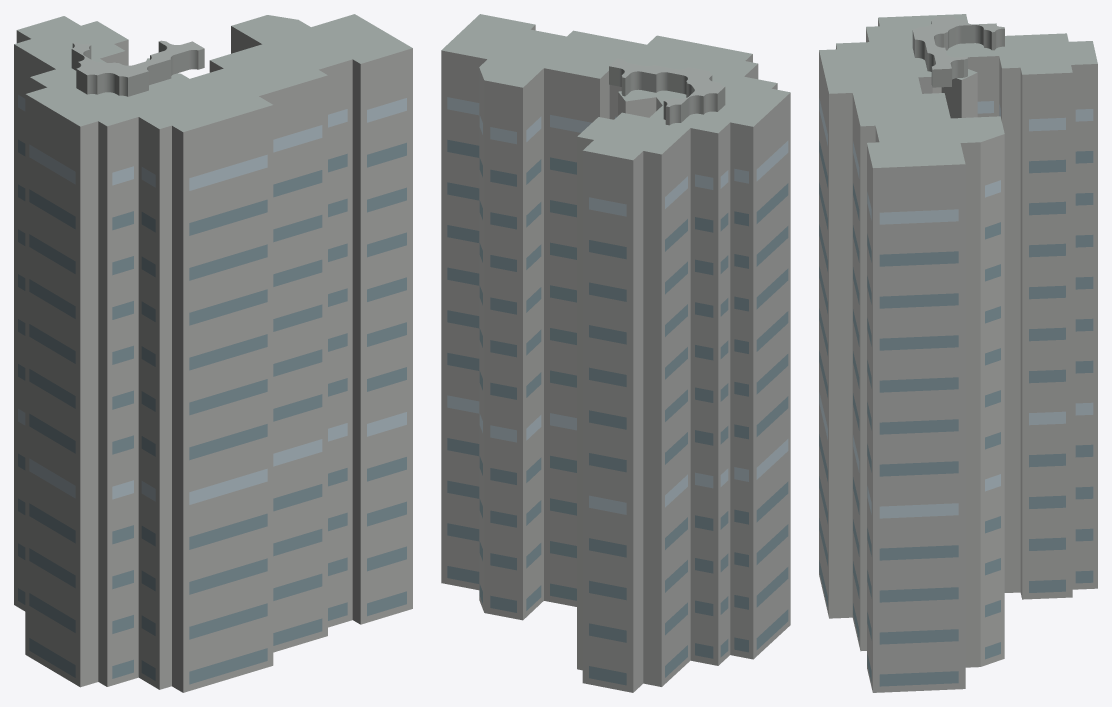
The model's file is fallback-mapo-raemian-prugio-208.glb.
3 views of the same model, side by side, from view 1: azimuth 30°, elevation 25°; view 2: azimuth 150°, elevation 25°; view 3: azimuth 270°, elevation 25° (orthographic). The views are drawn at different scales.
Visible parts, largest first — view 1: fallback-mapo-raemian-prugio-208; view 2: fallback-mapo-raemian-prugio-208; view 3: fallback-mapo-raemian-prugio-208.
Part boxes in pixels (x1,y1,x2,y2): fallback-mapo-raemian-prugio-208: [14, 14, 412, 692]; fallback-mapo-raemian-prugio-208: [441, 14, 790, 692]; fallback-mapo-raemian-prugio-208: [819, 14, 1097, 692].
Size of the model in its own units: 43.85 by 72 by 33.52.
